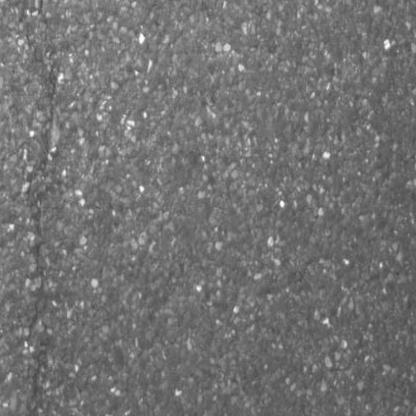Cracks: (23, 24, 66, 189), (24, 198, 49, 354), (35, 0, 51, 18)
